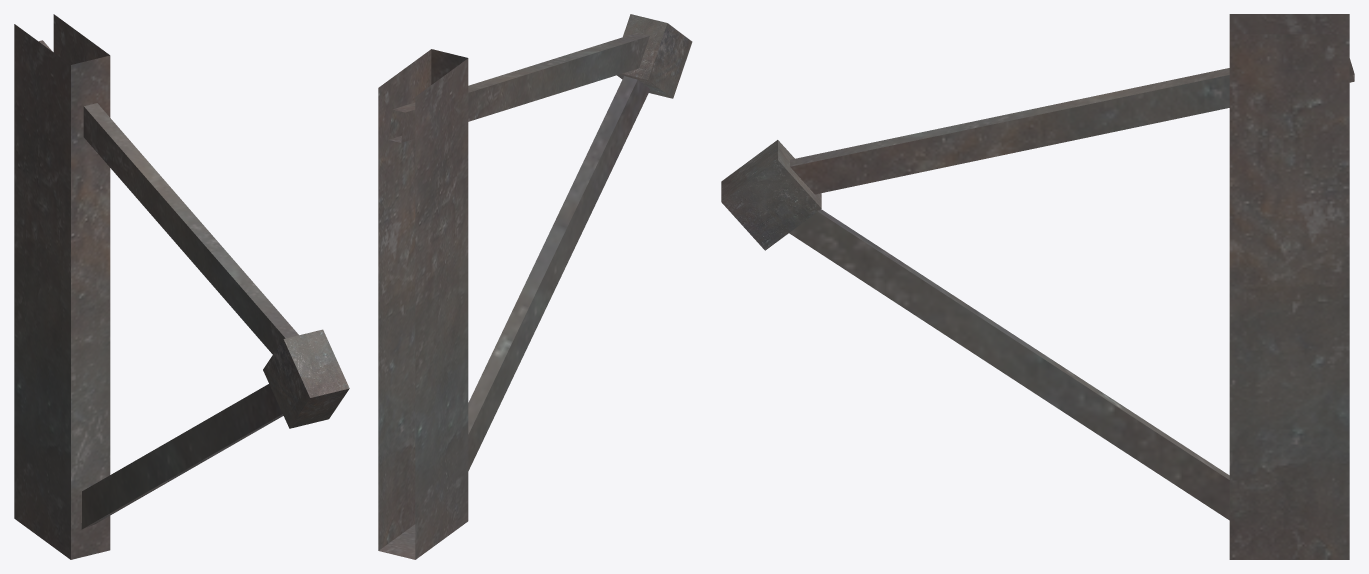
File: FlagBearer.fbx
3 views of the same model, side by side, from view 1: azimuth 30°, elevation 25°; view 2: azimuth 150°, elevation 25°; view 3: azimuth 270°, elevation 25° (orthographic). The views are drawn at different scales.
Visible parts, largest first — view 1: FlagBearer; view 2: FlagBearer; view 3: FlagBearer.
Part boxes in pixels (x1=…): FlagBearer: x1=14, y1=14, x2=349, y2=559; FlagBearer: x1=378, y1=14, x2=692, y2=559; FlagBearer: x1=721, y1=14, x2=1354, y2=559.
Bounding box in the file's own units: 3.02 × 36.17 × 39.52.
1 material, 1 textured.
